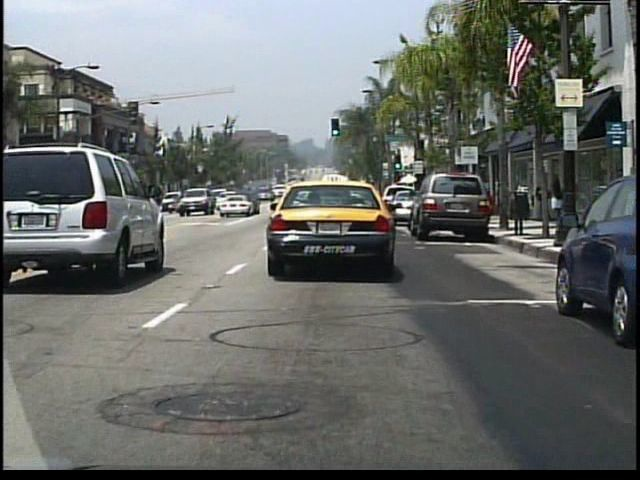person: (564, 172, 583, 226), (548, 172, 566, 224), (534, 177, 551, 227)
